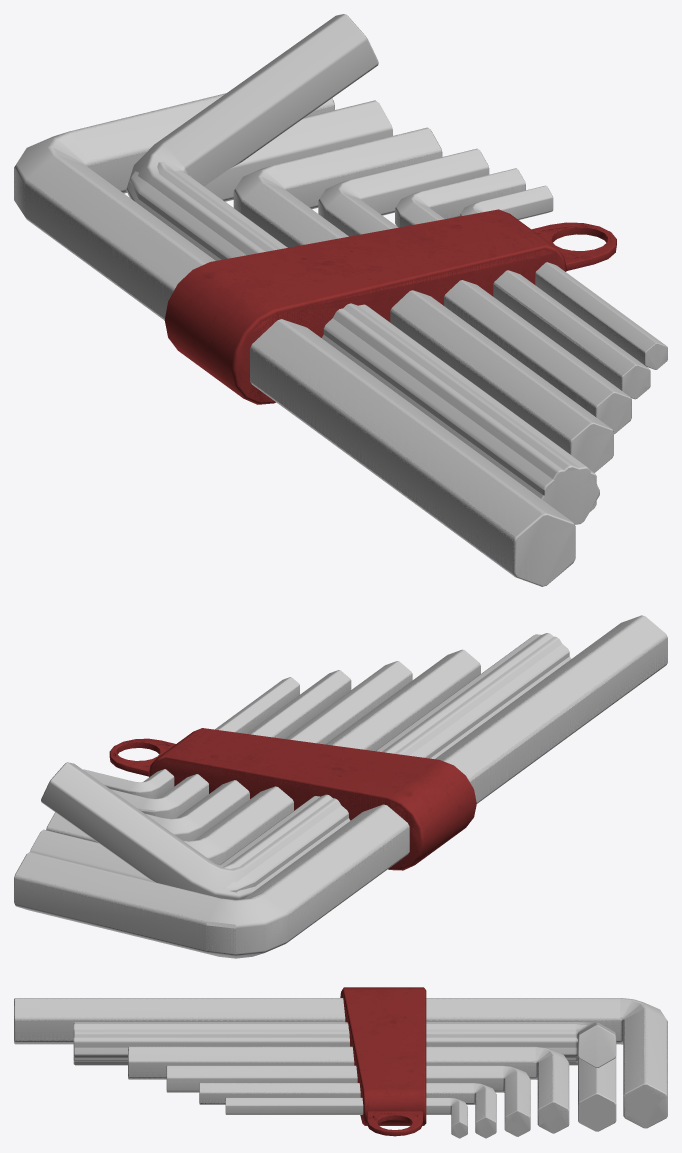
File: innensechskant_set.fbx
3 views of the same model, one above another, from view 1: azimuth 30°, elevation 25°; view 2: azimuth 150°, elevation 25°; view 3: azimuth 270°, elevation 25° (orthographic). The views are drawn at different scales.
Visible parts, largest first — view 1: innensechkant_set_01b, innensechkant_set_01a; view 2: innensechkant_set_01b, innensechkant_set_01a; view 3: innensechkant_set_01b, innensechkant_set_01a.
Boxes of the visible parts, left/top/right/bottom form: innensechkant_set_01b: left=14, top=14, right=667, bottom=586; innensechkant_set_01a: left=14, top=94, right=667, bottom=586; innensechkant_set_01b: left=14, top=615, right=667, bottom=958; innensechkant_set_01a: left=14, top=616, right=667, bottom=953; innensechkant_set_01b: left=14, top=987, right=667, bottom=1138; innensechkant_set_01a: left=14, top=987, right=667, bottom=1137.
Size of the model in its own units: 112 by 43.7 by 242.
Materials: 2 (1 with a texture image).
